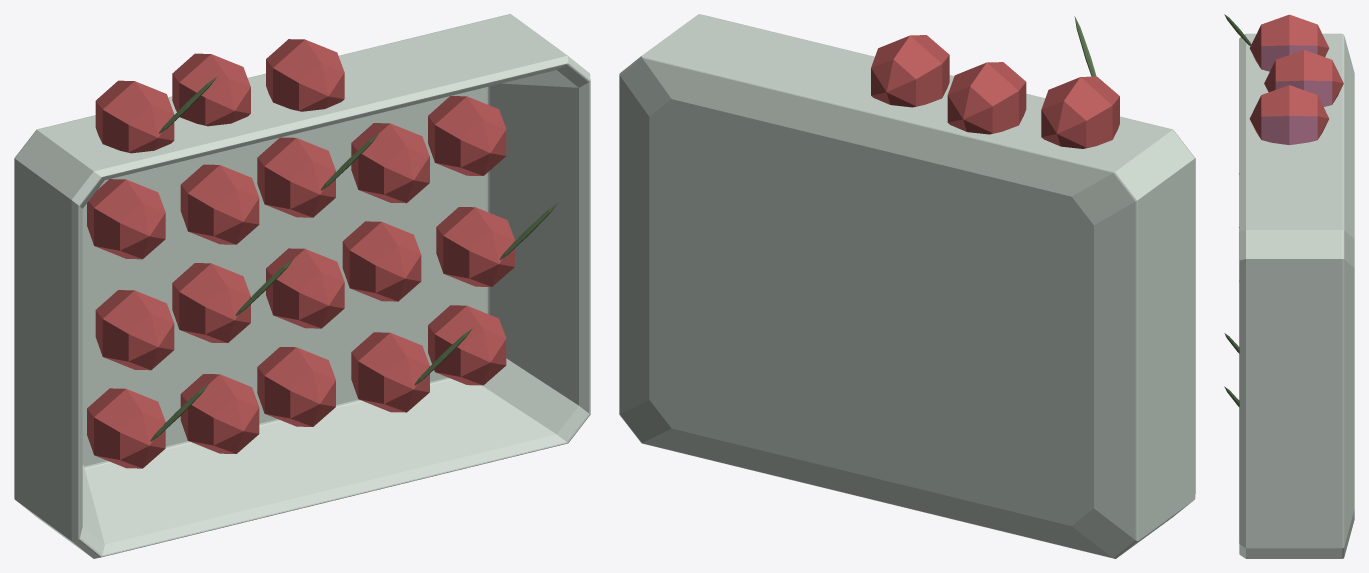
The model's file is redcurrants.glb.
3 renders of one model, left to right at view 1: azimuth 30°, elevation 25°; view 2: azimuth 150°, elevation 25°; view 3: azimuth 270°, elevation 25°, orthographic. The views are drawn at different scales.
Visible parts, largest first — view 1: redcurrants; view 2: redcurrants; view 3: redcurrants.
Part boxes in pixels (x1,y1,x2,y2): redcurrants: [14, 14, 590, 558]; redcurrants: [619, 14, 1195, 558]; redcurrants: [1224, 14, 1354, 558].
Bounding box in the file's own units: 0.14 × 0.12 × 0.036.
